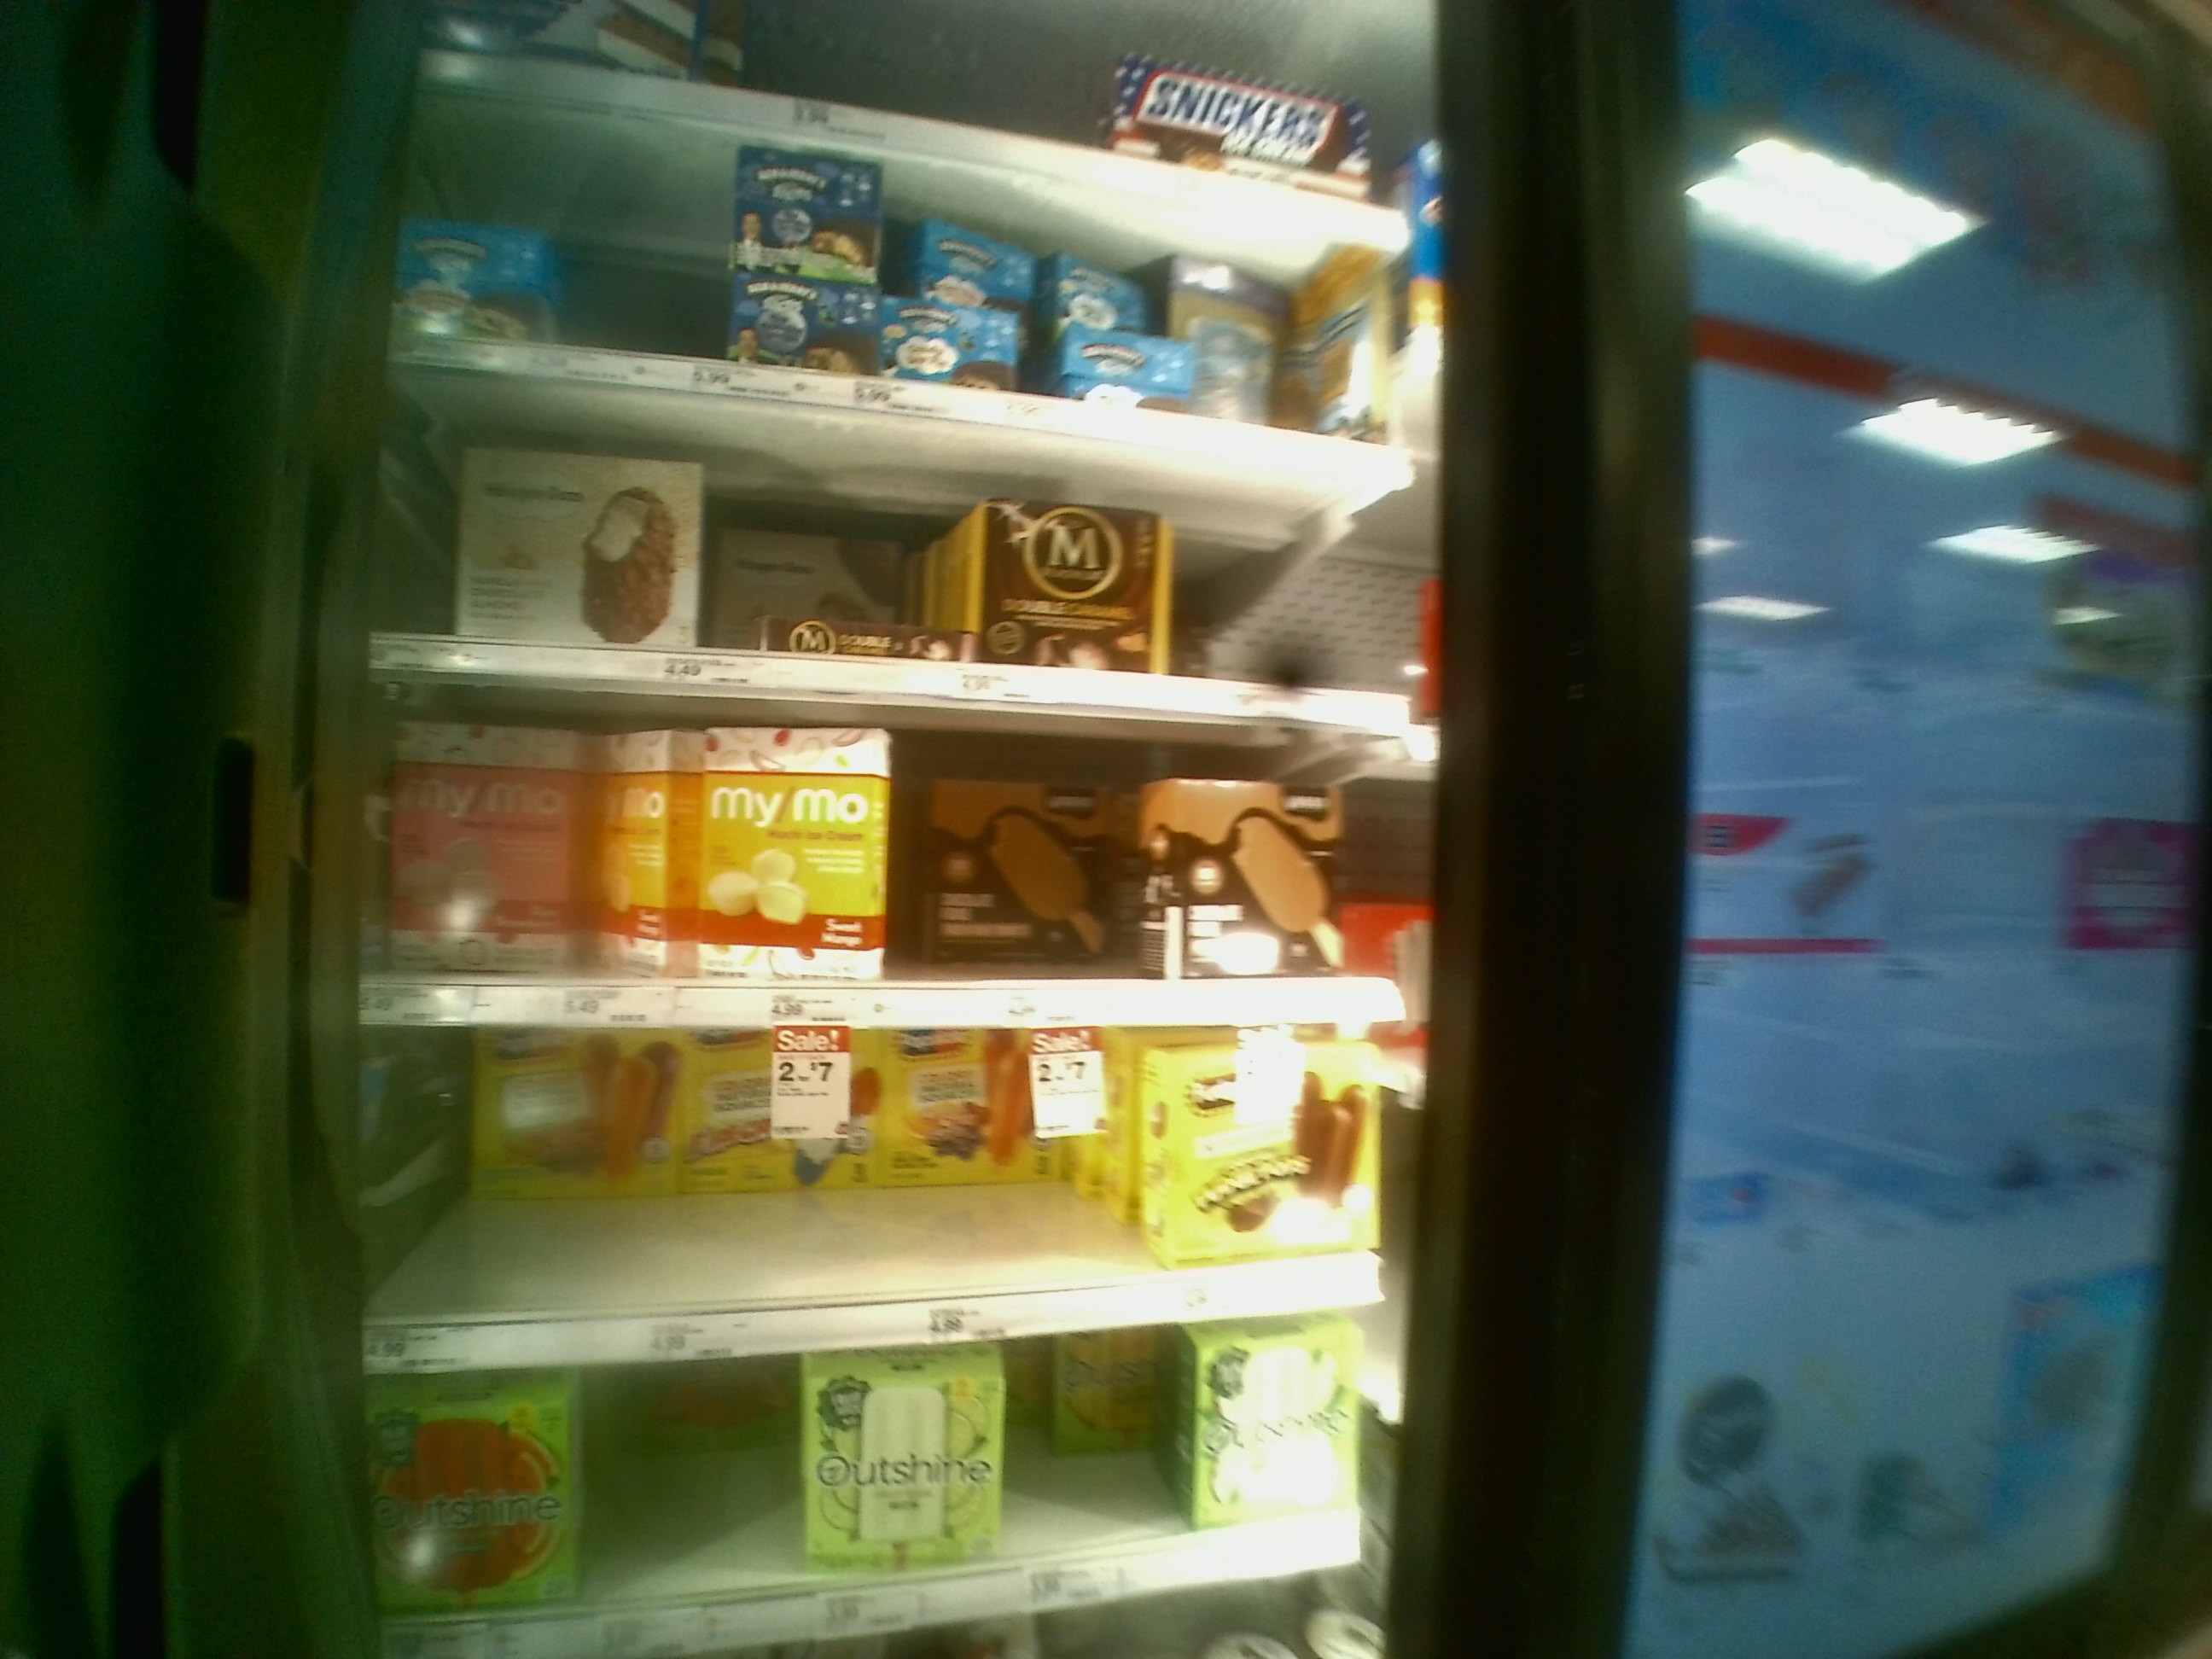ice-cream-shelf: (383, 678, 1428, 1040), (374, 1033, 1420, 1361)
